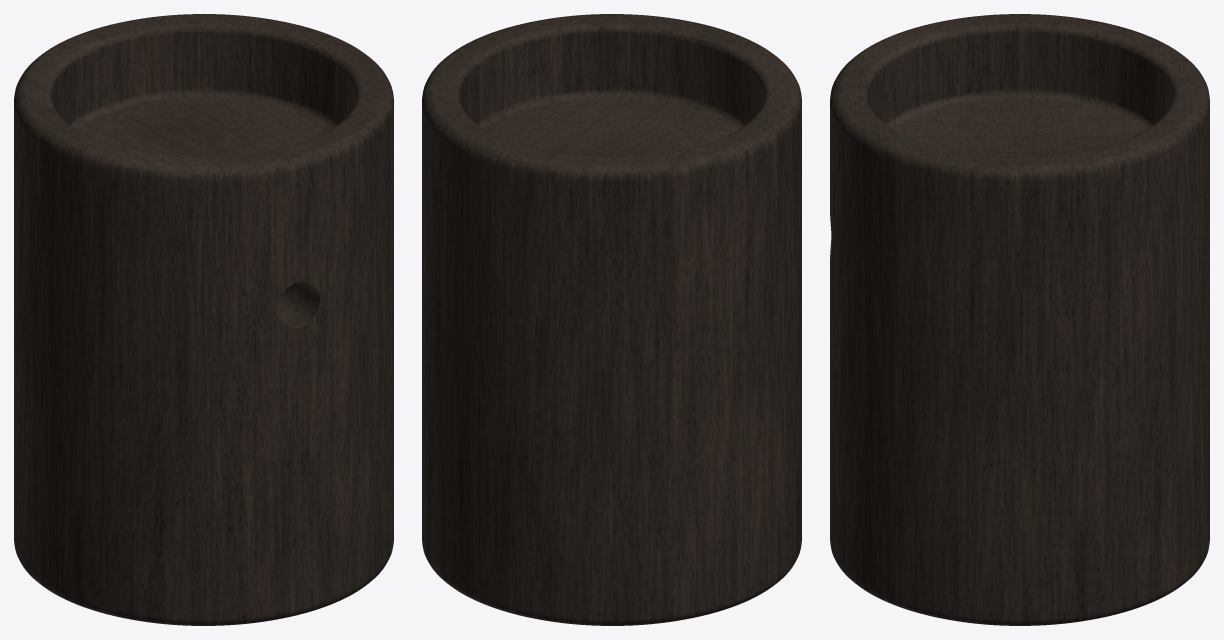
File: rook-black-hd.glb
3 views of the same model, side by side, from view 1: azimuth 30°, elevation 25°; view 2: azimuth 150°, elevation 25°; view 3: azimuth 270°, elevation 25° (orthographic).
Parts seen in each view (by area): view 1: Cylindra_Věž_černý; view 2: Cylindra_Věž_černý; view 3: Cylindra_Věž_černý.
Boxes of the visible parts, bbox=[...] form: Cylindra_Věž_černý: bbox=[14, 14, 393, 625]; Cylindra_Věž_černý: bbox=[422, 14, 801, 625]; Cylindra_Věž_černý: bbox=[830, 14, 1209, 625].
Size of the model in its own units: 0.5325 by 0.71 by 0.5325.
Materials: 2 (2 with a texture image).
